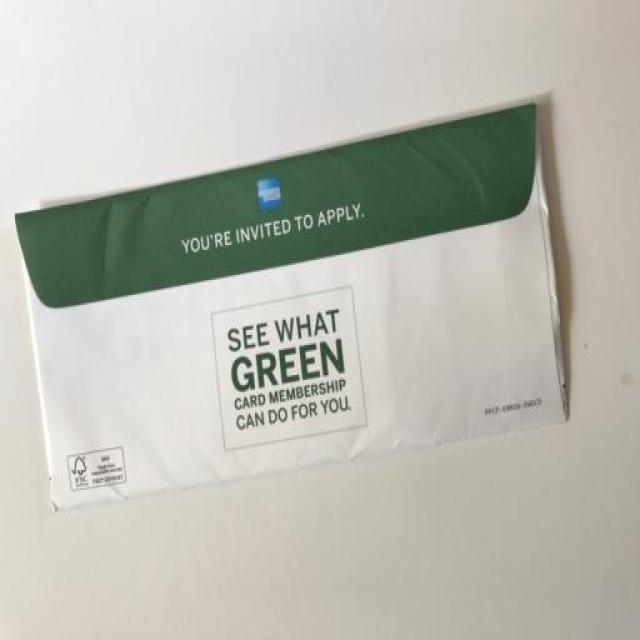Paper: (17, 93, 571, 504)
